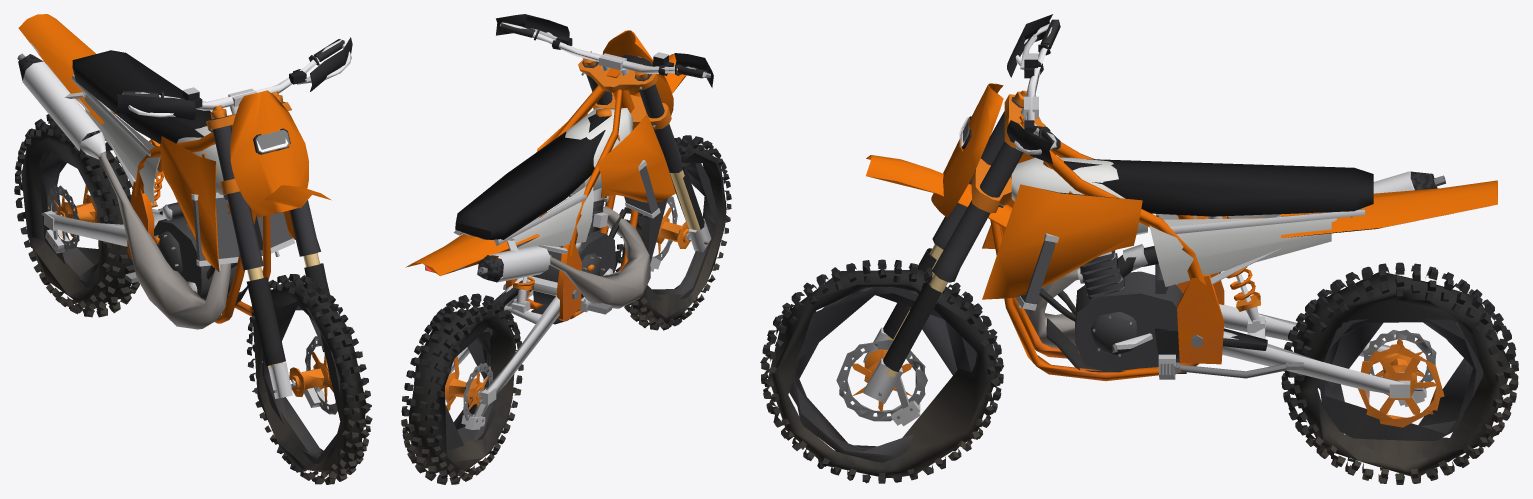
File: enduro-300-8000-ITNvB1jS.glb
3 renders of one model, left to right at view 1: azimuth 30°, elevation 25°; view 2: azimuth 150°, elevation 25°; view 3: azimuth 270°, elevation 25°, orthographic. The views are drawn at different scales.
Parts seen in each view (by area): view 1: SM_Enduro_Body_LOD3, SM_Enduro_Steering_LOD3, SM_Enduro_WheelRear_LOD3, SM_Enduro_WheelFront_LOD3, SM_Enduro_ForkLower_LOD3, SM_Enduro_Swingarm_LOD3; view 2: SM_Enduro_Body_LOD3, SM_Enduro_WheelRear_LOD3, SM_Enduro_Steering_LOD3, SM_Enduro_WheelFront_LOD3, SM_Enduro_Swingarm_LOD3, SM_Enduro_ForkLower_LOD3; view 3: SM_Enduro_Body_LOD3, SM_Enduro_WheelRear_LOD3, SM_Enduro_WheelFront_LOD3, SM_Enduro_Steering_LOD3, SM_Enduro_Swingarm_LOD3, SM_Enduro_ForkLower_LOD3.
Part boxes in pixels (bbox=[...]): SM_Enduro_Body_LOD3: bbox=[17, 14, 295, 329]; SM_Enduro_Steering_LOD3: bbox=[116, 37, 352, 270]; SM_Enduro_WheelRear_LOD3: bbox=[14, 114, 139, 317]; SM_Enduro_WheelFront_LOD3: bbox=[246, 274, 372, 484]; SM_Enduro_ForkLower_LOD3: bbox=[246, 253, 329, 407]; SM_Enduro_Swingarm_LOD3: bbox=[41, 200, 165, 253]; SM_Enduro_Body_LOD3: bbox=[406, 68, 675, 324]; SM_Enduro_WheelRear_LOD3: bbox=[401, 293, 523, 484]; SM_Enduro_Steering_LOD3: bbox=[496, 14, 713, 172]; SM_Enduro_WheelFront_LOD3: bbox=[615, 135, 731, 330]; SM_Enduro_Swingarm_LOD3: bbox=[448, 276, 559, 429]; SM_Enduro_ForkLower_LOD3: bbox=[650, 166, 711, 271]; SM_Enduro_Body_LOD3: bbox=[982, 115, 1497, 381]; SM_Enduro_WheelRear_LOD3: bbox=[1281, 262, 1518, 484]; SM_Enduro_WheelFront_LOD3: bbox=[760, 259, 1003, 483]; SM_Enduro_Steering_LOD3: bbox=[866, 14, 1060, 282]; SM_Enduro_Swingarm_LOD3: bbox=[1219, 273, 1426, 406]; SM_Enduro_ForkLower_LOD3: bbox=[863, 244, 947, 426].
Bounding box in the file's own units: 0.8758 × 1.27 × 2.17.
2 materials, 1 textured.
